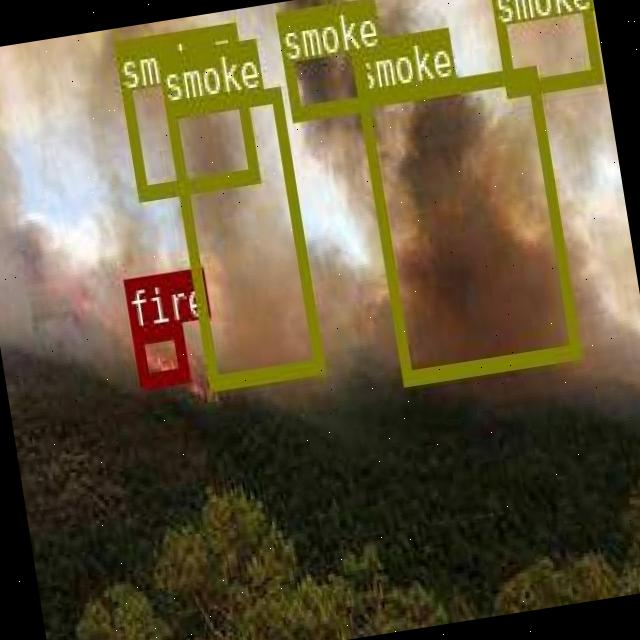fire: (130, 320, 188, 385)
smoke: (356, 62, 580, 384), (164, 86, 324, 390), (113, 21, 258, 197), (274, 0, 369, 117), (486, 0, 600, 94)
